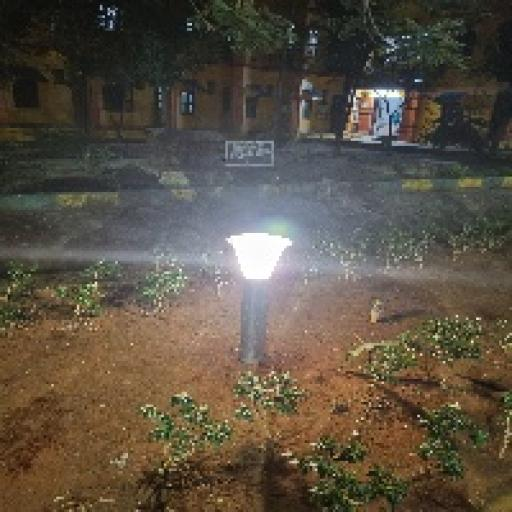Working: (218, 226, 296, 288)
